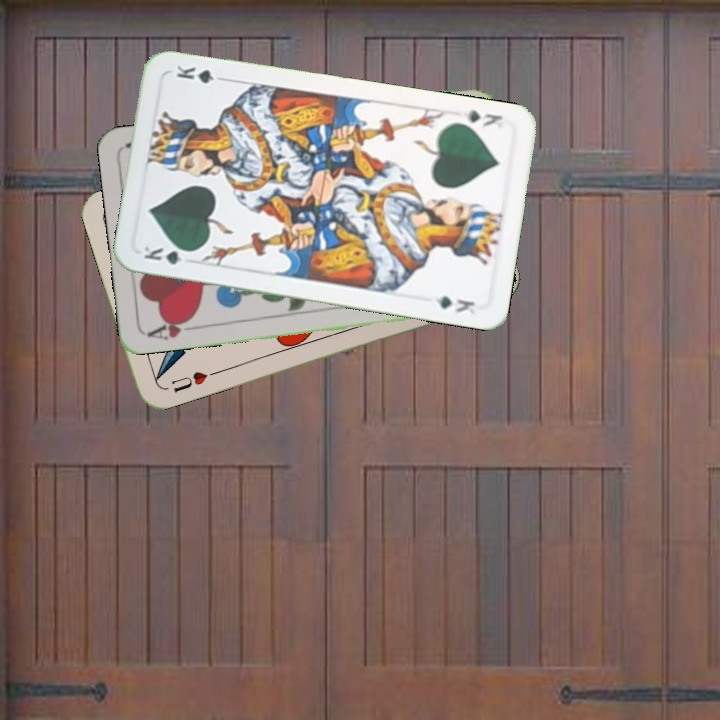GK: (140, 242, 197, 268), (458, 106, 506, 130)
HA: (143, 312, 202, 343)
HU: (167, 367, 219, 395)
